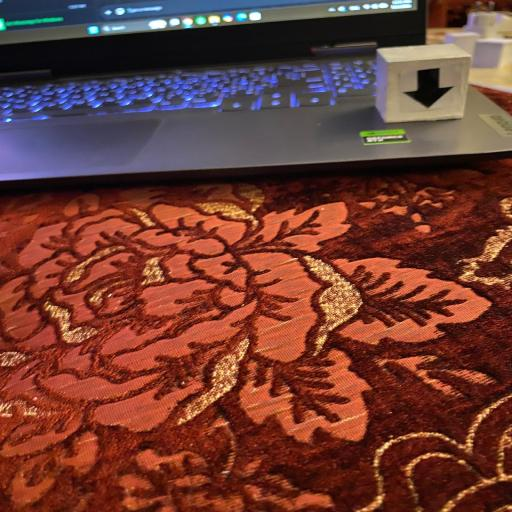Down: (373, 43, 476, 124)
